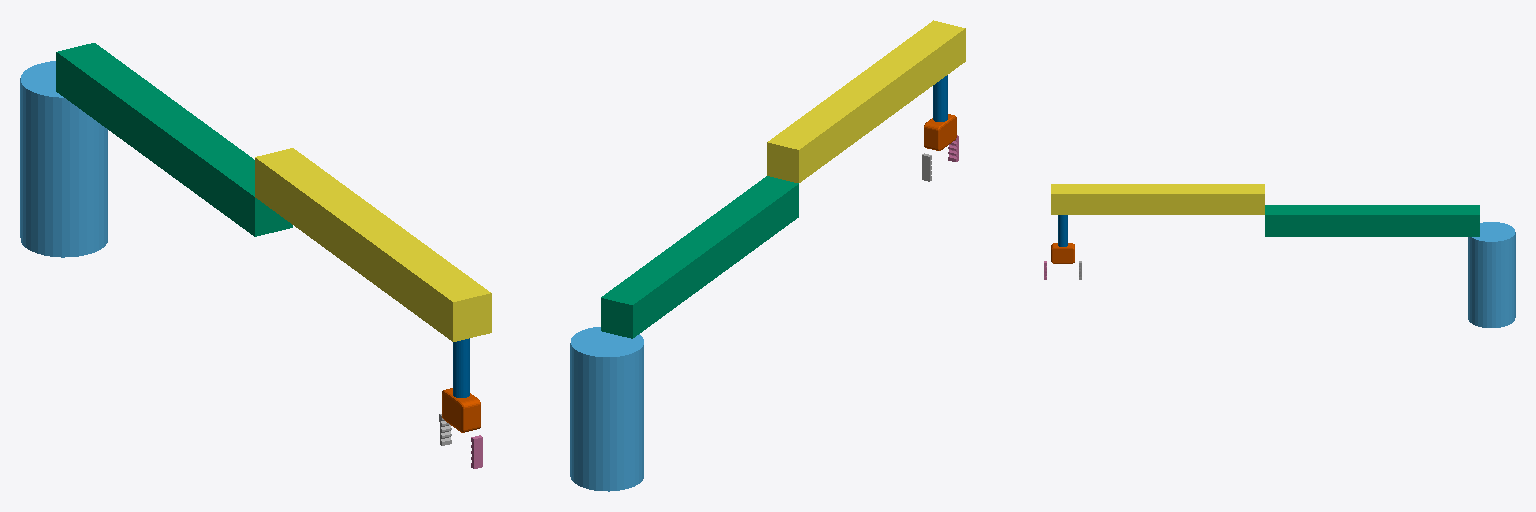
The robot description file, URDF, robot "lemons":
<?xml version="1.0" ?>
<!-- =================================================================================== -->
<!-- |    This document was autogenerated by xacro from ./simenv.xacro                 | -->
<!-- |    EDITING THIS FILE BY HAND IS NOT RECOMMENDED                                 | -->
<!-- =================================================================================== -->
<robot name="lemons">
    <link name="arm0" />
    <joint name="joint_fix" type="fixed">
        <origin xyz="0 0 0" />
        <parent link="arm0" />
        <child link="base_link" />
    </joint>
    <link name="base_link">
        <collision>
            <origin rpy="0 0 0" xyz="0 0 0.2" />
            <geometry>
                <cylinder length="0.4" radius="0.1" />
            </geometry>
        </collision>
        <visual>
            <origin rpy="0 0 0" xyz="0 0 0.2" />
            <geometry>
                <cylinder length="0.4" radius="0.1" />
            </geometry>
        </visual>
        
<inertial>
            <origin rpy="0 0 0" xyz="0 0 0.2" />
            <mass value="100" />
            <inertia ixx="1.0" ixy="0.0" ixz="0.0" iyy="1.0" iyz="0.0" izz="1.0" />
        </inertial>

    </link>
    <joint name="rotation1" type="revolute">
        <parent link="base_link" />
        <child link="arm1" />
        <origin rpy="0 0 0" xyz="0 0 0.4" />
        <axis xyz="0 0 1" />
        <limit effort="1000" lower="-2.6" upper="2.6" velocity="1" />
    </joint>
    <link name="arm1">
        <collision>
            <origin rpy="0 0 0" xyz="0 -0.5 0.05" />
            <geometry>
                <box size="0.1 0.9 0.1" />
            </geometry>
        </collision>
        <visual>
            <origin rpy="0 0 0" xyz="0 -0.5 0.05" />
            <geometry>
                <box size="0.1 0.9 0.1" />
            </geometry>
        </visual>
        
<inertial>
            <origin rpy="0 0 0" xyz="0 0 0.05" />
            <mass value="50" />
            <inertia ixx="1" ixy="0.0" ixz="0.0" iyy="1" iyz="0.0" izz="1" />
        </inertial>

    </link>
    <joint name="rotation2" type="revolute">
        <parent link="arm1" />
        <child link="arm2" />
        <origin rpy="0 0 0" xyz="0 -1 0.1" />
        <axis xyz="0 0 1" />
        <limit effort="1000" lower="-3.00" upper="3.00" velocity="1" />
    </joint>
    <link name="arm2">
        <collision>
            <origin rpy="0 0 0" xyz="0 -0.4 0.05" />
            <geometry>
                <box size="0.1 0.9 0.1" />
            </geometry>
        </collision>
        <visual>
            <origin rpy="0 0 0" xyz="0 -0.4 0.05" />
            <geometry>
                <box size="0.1 0.9 0.1" />
            </geometry>
        </visual>
        
<inertial>
            <origin rpy="0 0 0" xyz="0 0 0.05" />
            <mass value="10" />
            <inertia ixx="1" ixy="0.0" ixz="0.0" iyy="1" iyz="0.0" izz="1" />
        </inertial>

    </link>
    <joint name="prismatic1" type="prismatic">
        <parent link="arm2" />
        <child link="arm3" />
        <origin rpy="0 0 0" xyz="0 -0.8 0" />
        <axis xyz="0 0 1" />
        <limit effort="100" lower="-0.05" upper="0.0" velocity="0.3" />
    </joint>
    <link name="arm3">
        <collision>
            <origin rpy="0 0 0" xyz="0 0 -0.1" />
            <geometry>
                <cylinder length="0.2" radius="0.02" />
            </geometry>
        </collision>
        <visual>
            <origin rpy="0 0 0" xyz="0 0 -0.1" />
            <geometry>
                <cylinder length="0.2" radius="0.02" />
            </geometry>
        </visual>
        
<inertial>
            <origin rpy="0 0 0" xyz="0 0 0" />
            <mass value="0.01" />
            <inertia ixx="1" ixy="0.0" ixz="0.0" iyy="1" iyz="0.0" izz="1" />
        </inertial>

    </link>
    <link name="gripper_link">
        
<inertial>
            <origin rpy="0 0 0" xyz="0 0 0" />
            <mass value="0.3" />
            <inertia ixx="0.0001" ixy="0" ixz="0" iyy="0.0002" iyz="0" izz="0.0001" />
        </inertial>

        <visual>
            <origin rpy="0 0 0" xyz="0 0 0" />
            <geometry>
                <mesh filename="package://simenv/meshes/gripper/gripper_base.dae" scale="0.5 0.5 0.5" />
            </geometry>
        </visual>
        <collision>
            <origin rpy="0 0 0" xyz="0 0 0" />
            <geometry>
                <mesh filename="package://simenv/meshes/gripper/gripper_base.dae" scale="0.5 0.5 0.5" />
            </geometry>
        </collision>
    </link>
    <link name="right_gripper_finger_link">
        
<inertial>
            <origin rpy="0 0 0" xyz="0 0 0" />
            <mass value="0.1" />
            <inertia ixx="0.002" ixy="0" ixz="0" iyy="0.0002" iyz="0" izz="0.0002" />
        </inertial>

        <visual>
            <origin rpy="0 0 0" xyz="0 0 0" />
            <geometry>
                <mesh filename="package://simenv/meshes/gripper/finger_right.dae" scale="0.5 0.5 0.5" />
            </geometry>
        </visual>
        <collision>
            <origin rpy="0 0 0" xyz="0 0 0" />
            <geometry>
                <mesh filename="package://simenv/meshes/gripper/finger_right_collision.dae" scale="0.5 0.5 0.5" />
            </geometry>
        </collision>
    </link>
    <link name="left_gripper_finger_link">
        
<inertial>
            <origin rpy="0 0 0" xyz="0 0 0" />
            <mass value="0.1" />
            <inertia ixx="0.002" ixy="0" ixz="0" iyy="0.0002" iyz="0" izz="0.0002" />
        </inertial>

        <visual>
            <origin rpy="0 0 0" xyz="0 0 0" />
            <geometry>
                <mesh filename="package://simenv/meshes/gripper/finger_left.dae" scale="0.5 0.5 0.5" />
            </geometry>
        </visual>
        <collision>
            <origin rpy="0 0 0" xyz="0 0 0" />
            <geometry>
                <mesh filename="package://simenv/meshes/gripper/finger_left_collision.dae" scale="0.5 0.5 0.5" />
            </geometry>
        </collision>
    </link>
    <joint name="right_gripper_finger_joint" type="prismatic">
        <origin rpy="0 0 0" xyz="0.078 -0.0725 0" />
        <parent link="gripper_link" />
        <child link="right_gripper_finger_link" />
        <axis xyz="0 1 0" />
        <limit effort="100" lower="-0.01" upper="0.06" velocity="0.05" />
        <dynamics damping="0.7" />
    </joint>
    <joint name="left_gripper_finger_joint" type="prismatic">
        <origin rpy="0 0 0" xyz="0.078 0.0725 0" />
        <parent link="gripper_link" />
        <child link="left_gripper_finger_link" />
        <axis xyz="0 -1 0" />
        <limit effort="100" lower="-0.01" upper="0.06" velocity="0.05" />
        <dynamics damping="0.7" />
    </joint>
    <joint name="gripper_joint" type="fixed">
        <parent link="arm3" />
        <child link="gripper_link" />
        <origin rpy="0 1.57 0" xyz="0 0 -0.2" />
        <axis xyz="0 1 0" />
    </joint>
    <gazebo reference="left_gripper_finger_link">
        <material>Gazebo/Grey</material>
        <kp>1000000.0</kp>
        <kd>1.0</kd>
        <mu1>30.0</mu1>
        <mu2>30.0</mu2>
    </gazebo>
    <gazebo reference="right_gripper_finger_link">
        <material>Gazebo/Grey</material>
        <kp>1000000.0</kp>
        <kd>1.0</kd>
        <mu1>30.0</mu1>
        <mu2>30.0</mu2>
    </gazebo>
    
<transmission name="trans_rotation1">
        <type>transmission_interface/SimpleTransmission</type>
        <joint name="rotation1">
            <hardwareInterface>hardware_interface/EffortJointInterface</hardwareInterface>
        </joint>
        <actuator name="rotation1_motor">
            <hardwareInterface>hardware_interface/EffortJointInterface</hardwareInterface>
            <mechanicalReduction>1</mechanicalReduction>
        </actuator>
    </transmission>
    <transmission name="trans_rotation2">
        <type>transmission_interface/SimpleTransmission</type>
        <joint name="rotation2">
            <hardwareInterface>hardware_interface/EffortJointInterface</hardwareInterface>
        </joint>
        <actuator name="rotation2_motor">
            <hardwareInterface>hardware_interface/EffortJointInterface</hardwareInterface>
            <mechanicalReduction>1</mechanicalReduction>
        </actuator>
    </transmission>
    <transmission name="trans_prismatic1">
        <type>transmission_interface/SimpleTransmission</type>
        <joint name="prismatic1">
            <hardwareInterface>hardware_interface/EffortJointInterface</hardwareInterface>
        </joint>
        <actuator name="prismatic1_motor">
            <hardwareInterface>hardware_interface/EffortJointInterface</hardwareInterface>
            <mechanicalReduction>1</mechanicalReduction>
        </actuator>
    </transmission>
    <transmission name="trans_right_gripper_finger_joint">
        <type>transmission_interface/SimpleTransmission</type>
        <joint name="right_gripper_finger_joint">
            <hardwareInterface>hardware_interface/EffortJointInterface</hardwareInterface>
        </joint>
        <actuator name="right_gripper_finger_joint_motor">
            <hardwareInterface>hardware_interface/EffortJointInterface</hardwareInterface>
            <mechanicalReduction>1</mechanicalReduction>
        </actuator>
    </transmission>
    <transmission name="trans_left_gripper_finger_joint">
        <type>transmission_interface/SimpleTransmission</type>
        <joint name="left_gripper_finger_joint">
            <hardwareInterface>hardware_interface/EffortJointInterface</hardwareInterface>
        </joint>
        <actuator name="left_gripper_finger_joint_motor">
            <hardwareInterface>hardware_interface/EffortJointInterface</hardwareInterface>
            <mechanicalReduction>1</mechanicalReduction>
        </actuator>
    </transmission>
    <gazebo>
        <plugin name="gazebo_ros_control" filename="libgazebo_ros_control.so">
            <robotNamespace>/</robotNamespace>
        </plugin>
    </gazebo>
    <!-- <gazebo reference="gripper_link"> -->
    <!--   <sensor type="camera" name="camera1"> -->
    <!--     <update_rate>30.0</update_rate> -->
    <!--     <camera name="head"> -->
    <!--       <horizontal_fov>1.3962634</horizontal_fov> -->
    <!--       <image> -->
    <!--         <width>800</width> -->
    <!--         <height>800</height> -->
    <!--         <format>R8G8B8</format> -->
    <!--       </image> -->
    <!--       <clip> -->
    <!--         <near>0.02</near> -->
    <!--         <far>300</far> -->
    <!--       </clip> -->
    <!--       <noise> -->
    <!--         <type>gaussian</type> -->
    <!--         <mean>0.0</mean> -->
    <!--         <stddev>0.007</stddev> -->
    <!--       </noise> -->
    <!--     </camera> -->
    <!--   <plugin name="camera_controller" filename="libgazebo_ros_camera.so"> -->
    <!--     <alwaysOn>true</alwaysOn> -->
    <!--     <updateRate>0.0</updateRate> -->
    <!--     <cameraName>camera</cameraName> -->
    <!--     <imageTopicName>image_raw</imageTopicName> -->
    <!--     <cameraInfoTopicName>camera_info</cameraInfoTopicName> -->
    <!--     <frameName>gripper_link</frameName> -->
    <!--     <hackBaseline>0.07</hackBaseline> -->
    <!--     <distortionK1>0.0</distortionK1> -->
    <!--     <distortionK2>0.0</distortionK2> -->
    <!--     <distortionK3>0.0</distortionK3> -->
    <!--     <distortionT1>0.0</distortionT1> -->
    <!--     <distortionT2>0.0</distortionT2> -->
    <!--   </plugin> -->
    <!-- </sensor> -->
    <!-- </gazebo> -->
</robot>

--- What the picture shows (computed from the rendered views, not written in the file) ---
The picture shows the robot from 3 angles, left to right: view 1: azimuth 30°, elevation 25°; view 2: azimuth 150°, elevation 25°; view 3: azimuth 270°, elevation 25°; orthographic projection.
Robot: lemons — 8 links, 7 joints (2 revolute, 3 prismatic, 2 fixed); root link arm0; default pose: every joint at zero.
Links seen in each view (by area): view 1: arm2, arm1, base_link, gripper_link, arm3; view 2: arm2, arm1, base_link, gripper_link, arm3; view 3: arm1, arm2, base_link.
Boxes of the visible links, box(x1,y1,x2,y2) form: arm2: box(255, 148, 491, 341); arm1: box(56, 43, 292, 236); base_link: box(20, 61, 107, 257); gripper_link: box(442, 388, 480, 432); arm3: box(453, 338, 469, 397); arm2: box(767, 20, 965, 182); arm1: box(601, 176, 798, 338); base_link: box(570, 327, 643, 491); gripper_link: box(924, 114, 956, 150); arm3: box(933, 75, 947, 121); arm1: box(1265, 205, 1479, 236); arm2: box(1051, 184, 1264, 214); base_link: box(1468, 222, 1515, 327).
Bounding box of the posed robot: 0.2 × 1.98 × 0.6 m (x, y, z).
3 mesh visuals loaded from 3 distinct referenced files (3 Collada DAE).
